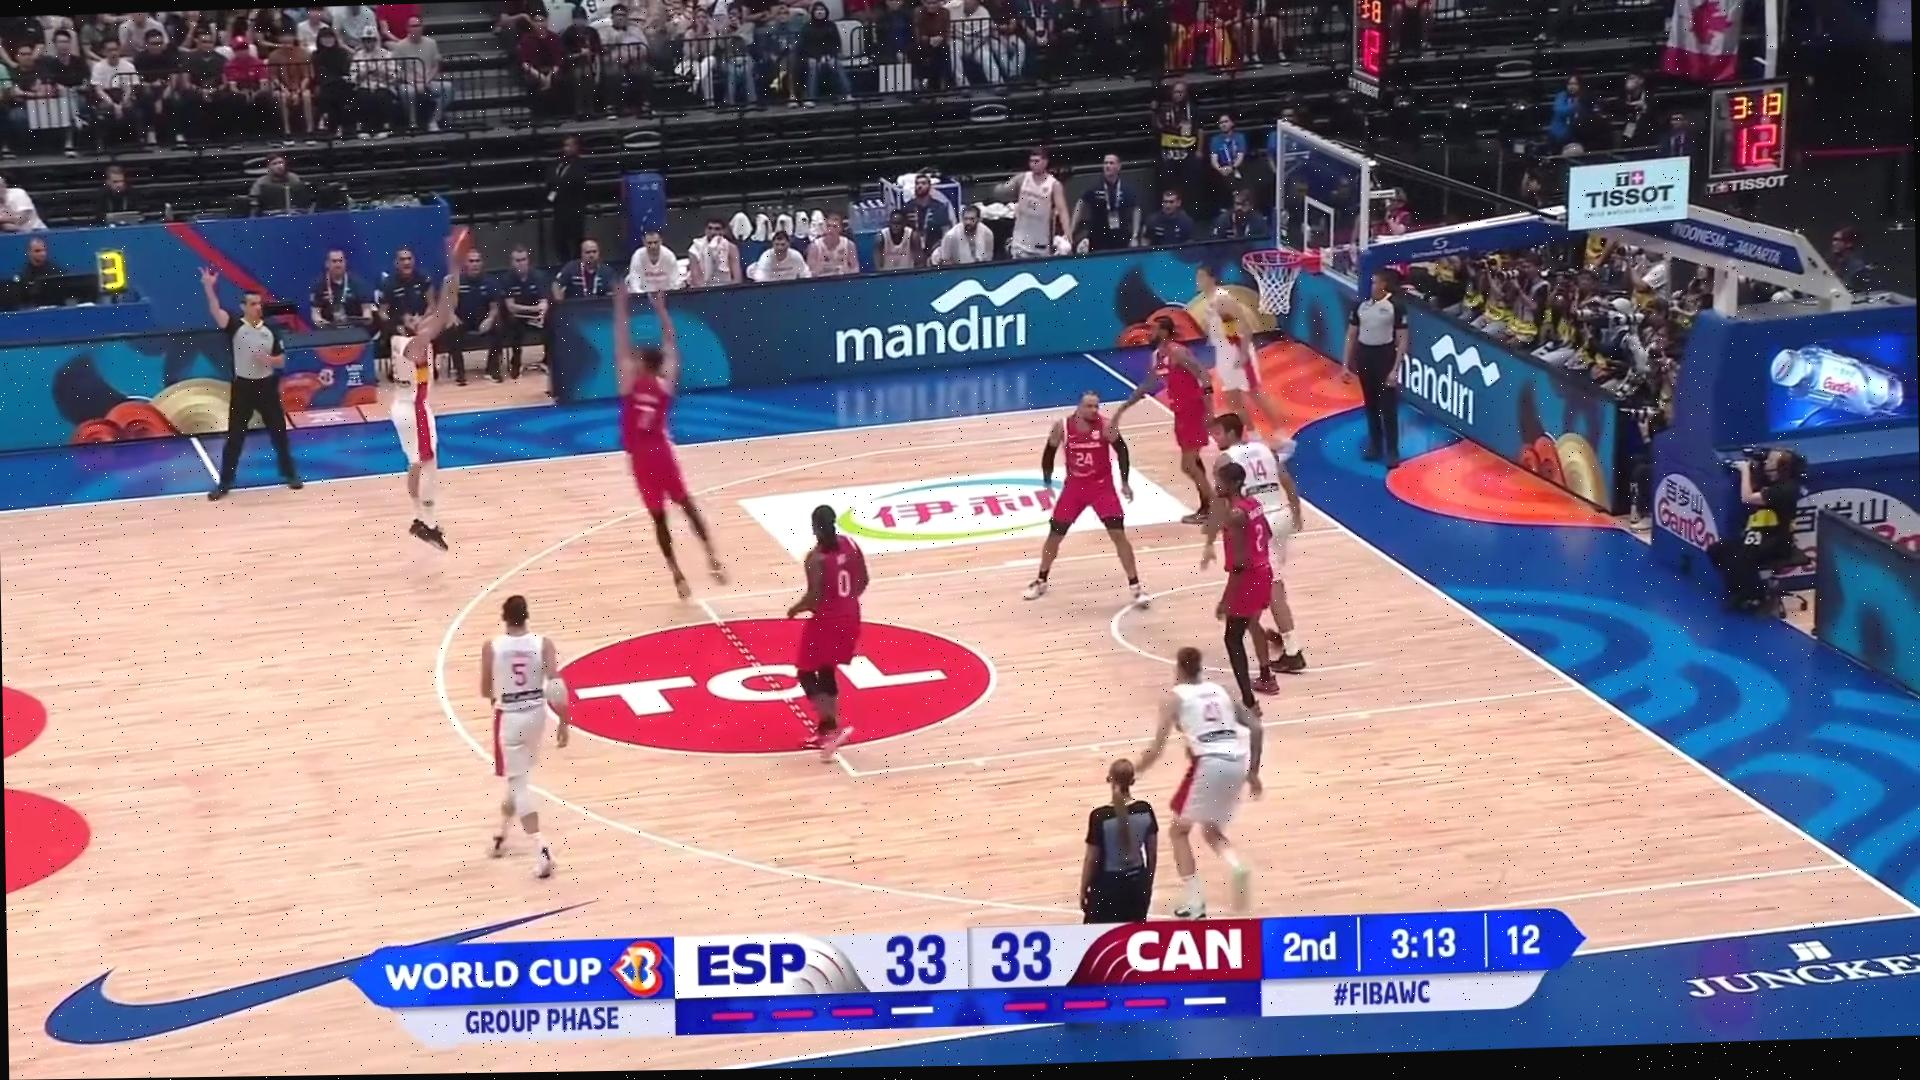no_foul: (343, 273, 501, 555)
